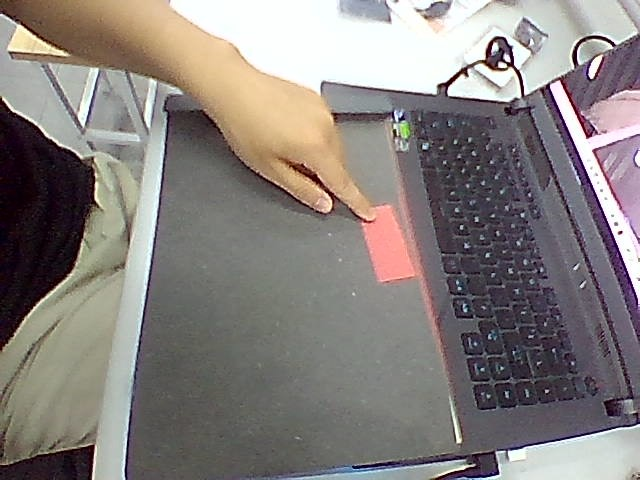card: (363, 204, 414, 281)
